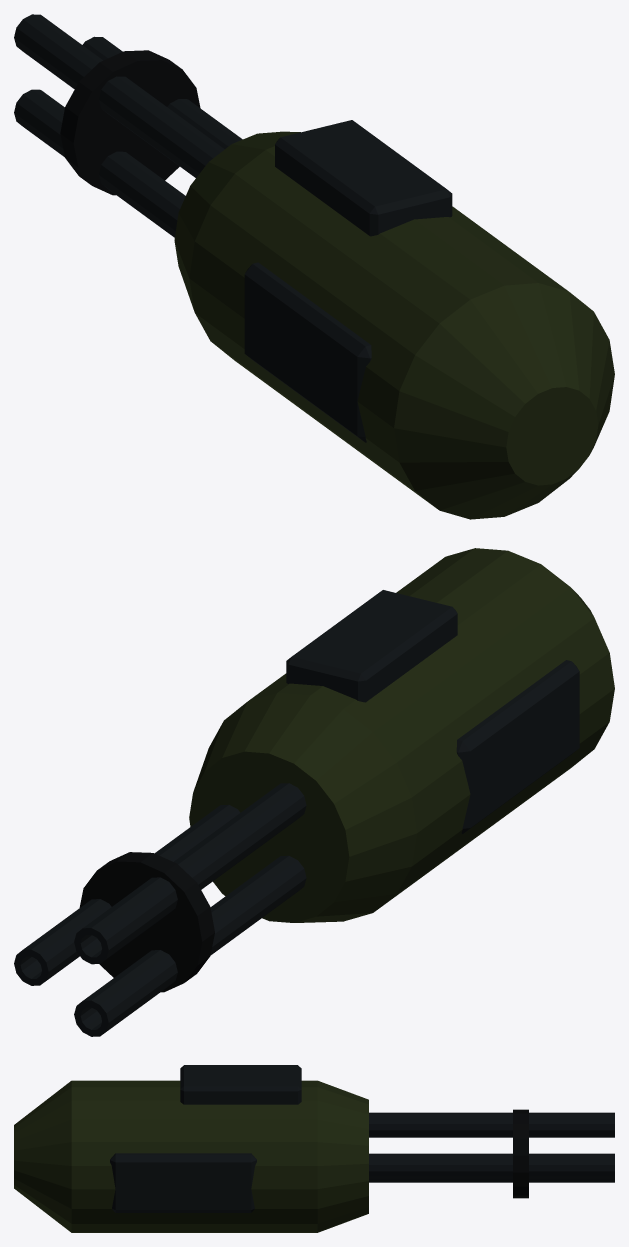
File: Rotary127.obj
3 views of the same model, one above another, from view 1: azimuth 30°, elevation 25°; view 2: azimuth 150°, elevation 25°; view 3: azimuth 270°, elevation 25° (orthographic). The views are drawn at different scales.
Parts seen in each view (by area): view 1: Pod_shell, Access_blister, Mount_lug, Rotor_barrel_clamp.001, Barrel_02, Barrel_03, Barrel_01; view 2: Pod_shell, Access_blister, Mount_lug, Barrel_02, Barrel_03, Rotor_barrel_clamp.001, Barrel_01; view 3: Pod_shell, Access_blister.001, Barrel_01, Barrel_02, Mount_lug, Rotor_barrel_clamp.001, Barrel_03.
Boxes of the visible parts, x1,y1,x2,y2 form: Pod_shell: (174,131,614,519); Access_blister: (244,262,371,442); Mount_lug: (275,120,452,236); Rotor_barrel_clamp.001: (60,50,200,195); Barrel_02: (14,14,224,177); Barrel_03: (14,89,185,237); Barrel_01: (82,36,242,148); Pod_shell: (189,548,614,922); Access_blister: (456,660,579,834); Mount_lug: (286,590,457,702); Barrel_02: (74,783,306,964); Barrel_03: (74,855,306,1036); Rotor_barrel_clamp.001: (79,852,214,992); Barrel_01: (14,804,240,985); Pod_shell: (14,1080,368,1232); Access_blister.001: (110,1153,256,1212); Barrel_01: (369,1153,614,1178); Barrel_02: (369,1112,614,1137); Mount_lug: (180,1065,301,1104); Rotor_barrel_clamp.001: (513,1109,528,1198); Barrel_03: (369,1178,614,1182).
Size of the model in its own units: 0.48 by 0.52 by 1.88.
